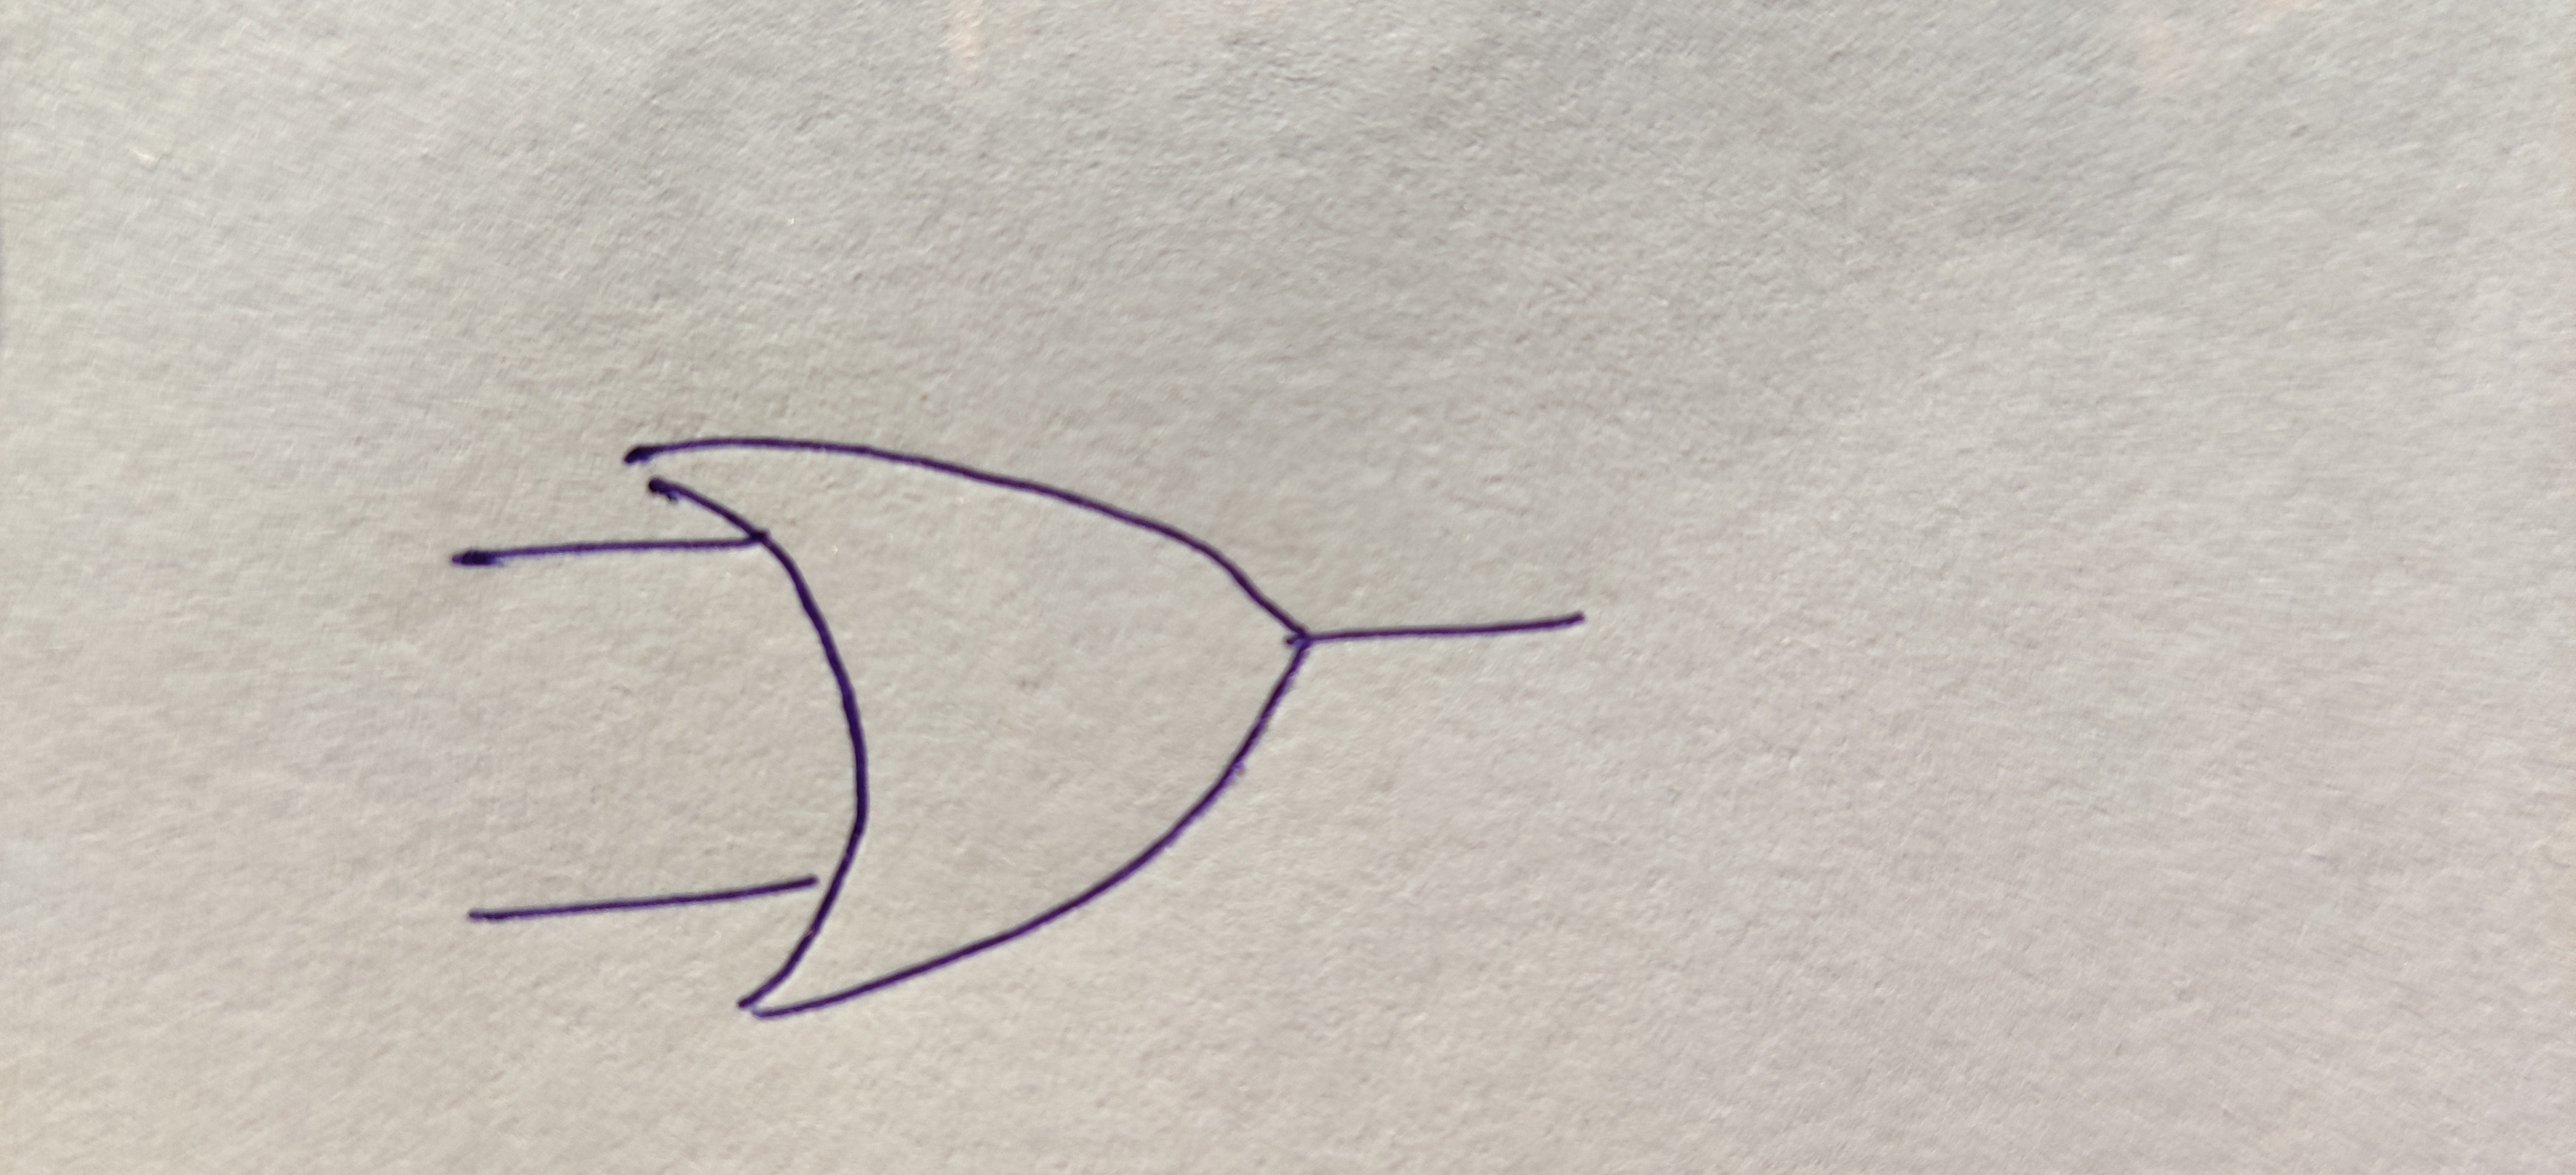or: (626, 437, 1306, 1017)
